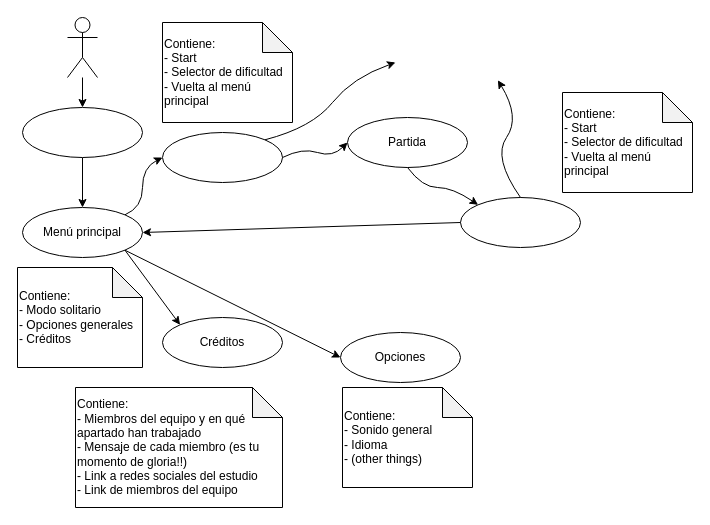
Image size: 710x525. Some labels were removed from this diagram. The shapes that lost their labels are listed below. From the top down, each one's centre as x and y in pixels, then its label:
point (82, 132): Pantalla de carga
point (222, 157): Modo solitario
point (520, 222): Menú pausa
